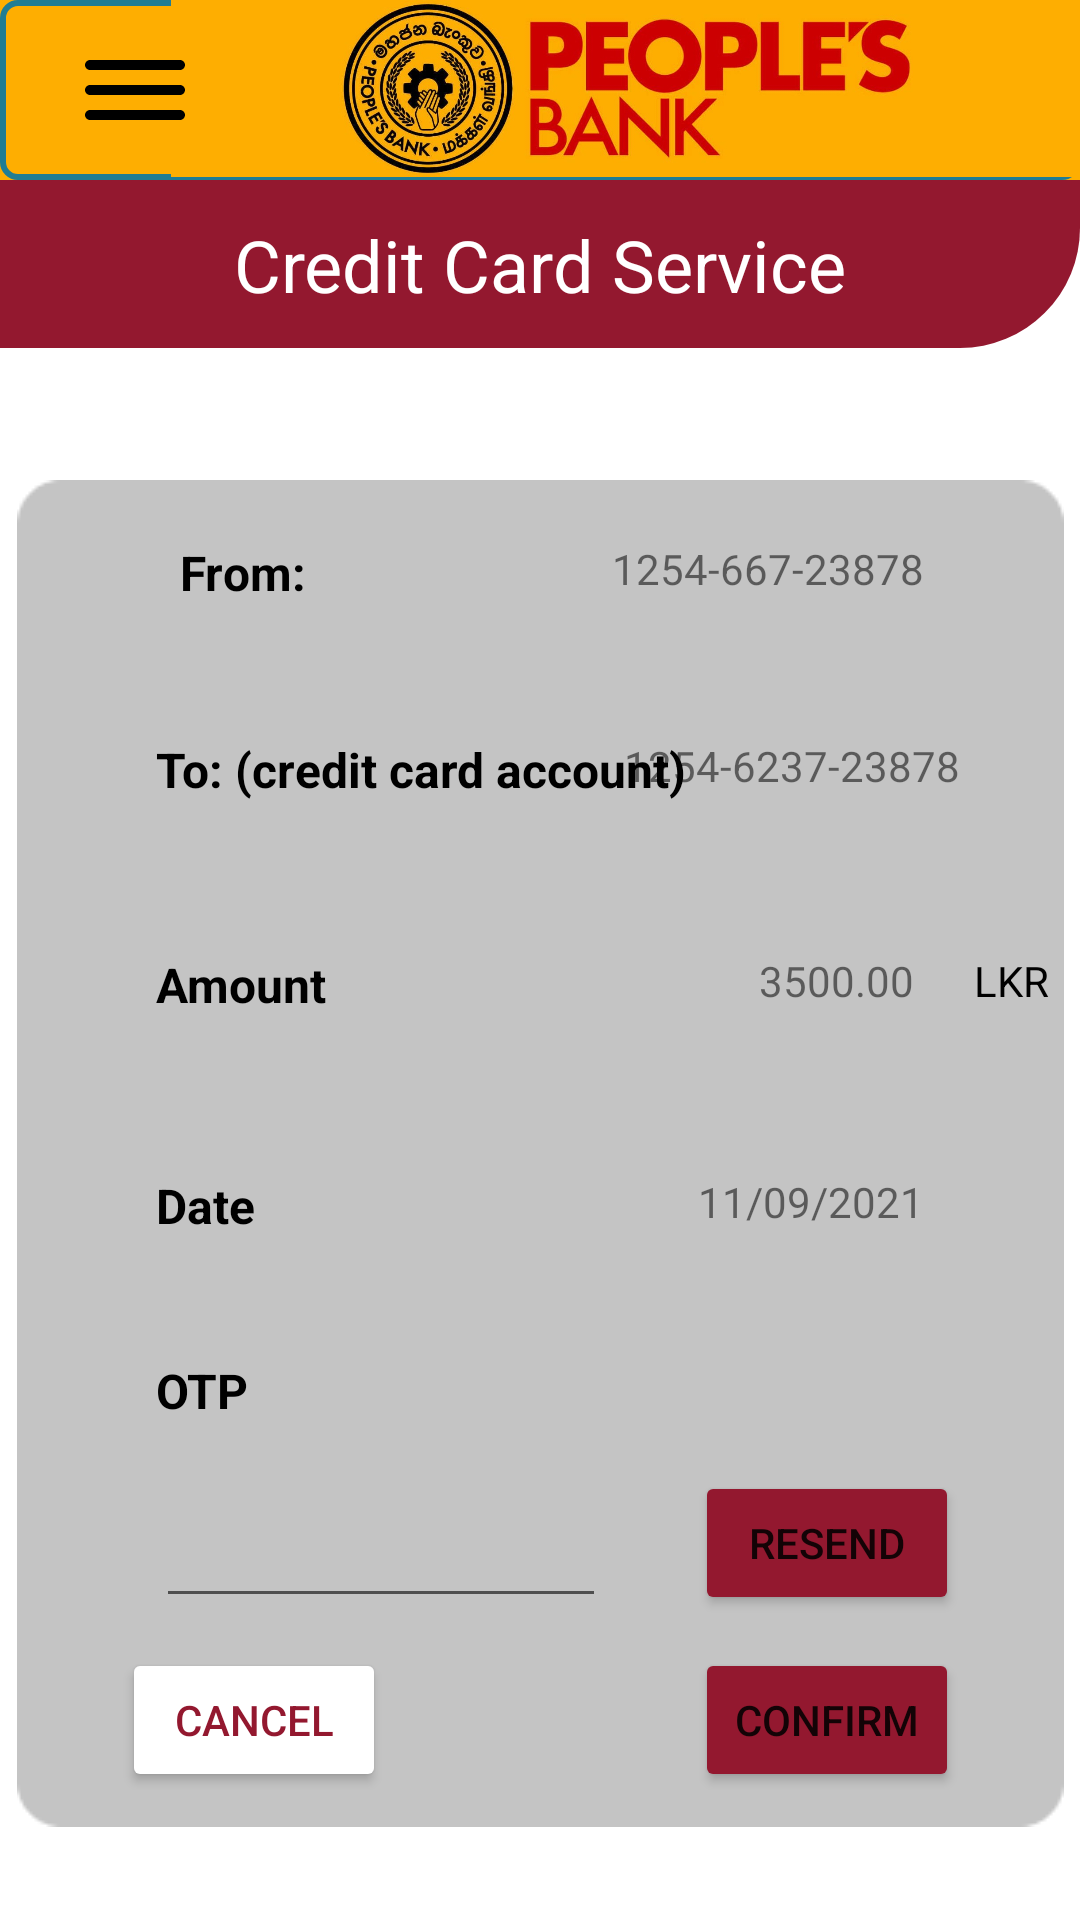

Icon click points for this 1080px x 1920px phone screenshot, format [x,y]:
dehaze: [135,90]
